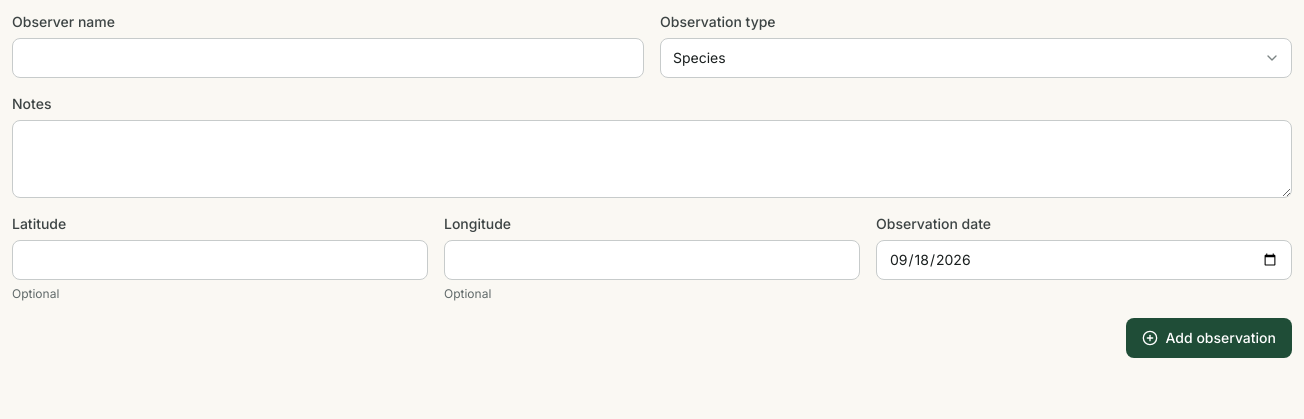
Test case: ObservationForm validation › shows required-field errors and does not submit when the form is empty
Click the button "Add observation" at (1209, 338), box [1126, 318, 1292, 358]
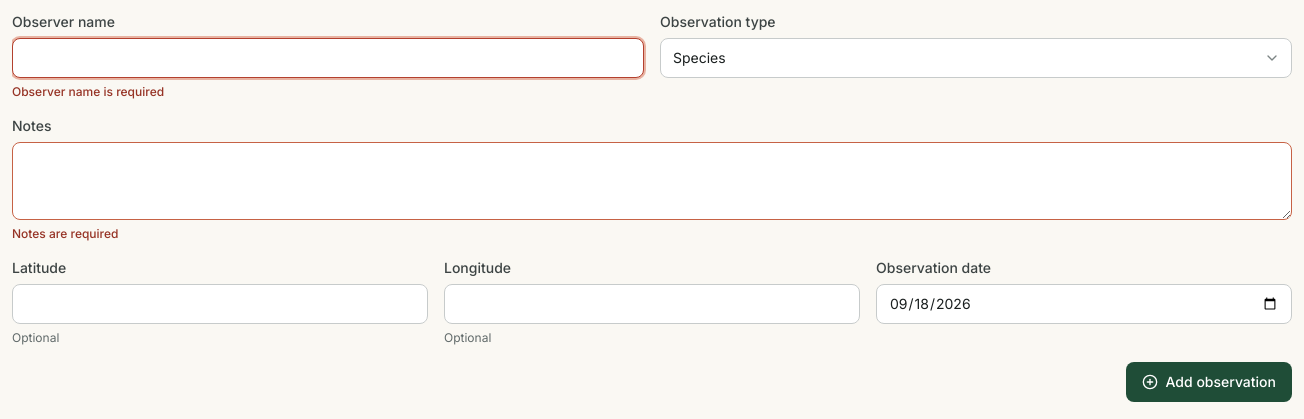
Result: the text "Observer name is required" is shown at [12, 84, 164, 99]
Result: the text "Notes are required" is shown at [12, 226, 118, 241]
